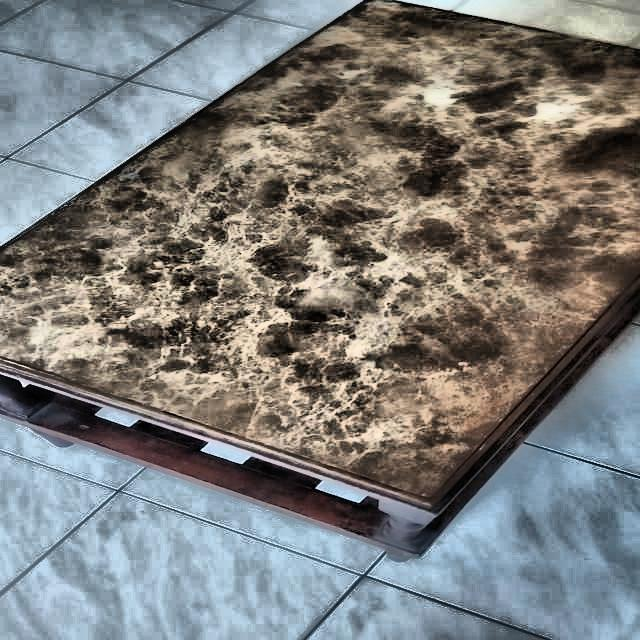mesa: (8, 0, 640, 566)
